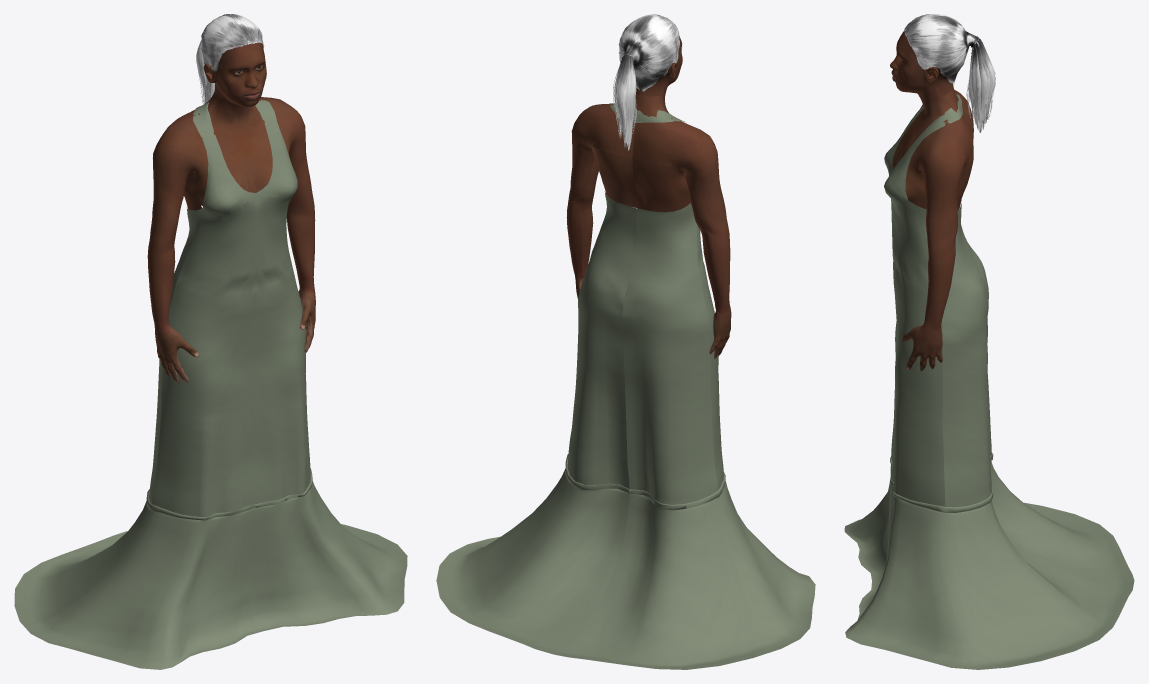
The model's file is long-dress.glb.
3 views of the same model, side by side, from view 1: azimuth 30°, elevation 25°; view 2: azimuth 150°, elevation 25°; view 3: azimuth 270°, elevation 25° (orthographic). The views are drawn at different scales.
Visible parts, largest first — view 1: clothing, skin, hair; view 2: clothing, skin, hair; view 3: clothing, skin, hair.
Boxes of the visible parts, box(x1,y1,x2,y2) form: clothing: box(14, 99, 407, 669); skin: box(147, 42, 315, 383); hair: box(196, 14, 264, 104); clothing: box(436, 103, 815, 669); skin: box(566, 36, 731, 358); hair: box(613, 14, 679, 150); clothing: box(844, 94, 1134, 669); skin: box(890, 31, 973, 371); hair: box(904, 14, 995, 132).
Bounding box in the file's own units: 1.07 × 1.65 × 0.7624.
Materials: 8 (8 with a texture image).
